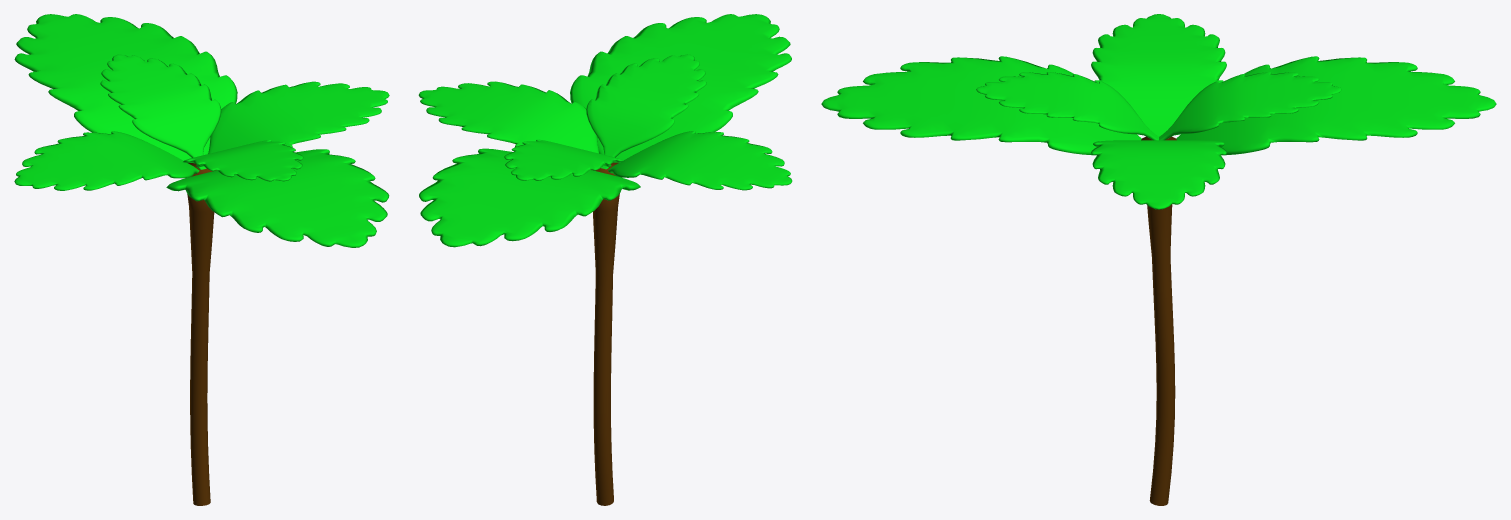
Rendered from minto.fbx.
3 renders of one model, left to right at view 1: azimuth 30°, elevation 25°; view 2: azimuth 150°, elevation 25°; view 3: azimuth 270°, elevation 25°, orthographic. The views are drawn at different scales.
Visible parts, largest first — view 1: ベジエカーブ; view 2: ベジエカーブ; view 3: ベジエカーブ.
Boxes of the visible parts, x1,y1,x2,y2 form: ベジエカーブ: (14, 14, 389, 505); ベジエカーブ: (418, 14, 792, 505); ベジエカーブ: (821, 14, 1496, 505).
Size of the model in its own units: 117 by 116 by 171.
